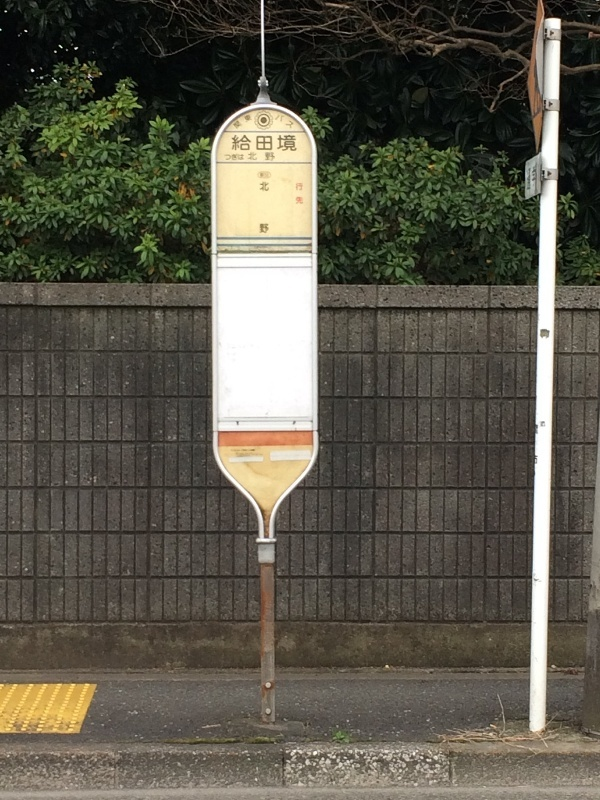text: (259, 181, 272, 235), (241, 134, 256, 153), (257, 134, 272, 153), (273, 134, 288, 153), (241, 112, 252, 132), (295, 182, 304, 204), (279, 112, 288, 132), (232, 134, 240, 153), (289, 134, 297, 153), (257, 152, 272, 162), (233, 112, 240, 132), (225, 153, 240, 162), (289, 112, 295, 132), (248, 152, 256, 162), (241, 153, 245, 162), (273, 152, 275, 162)
